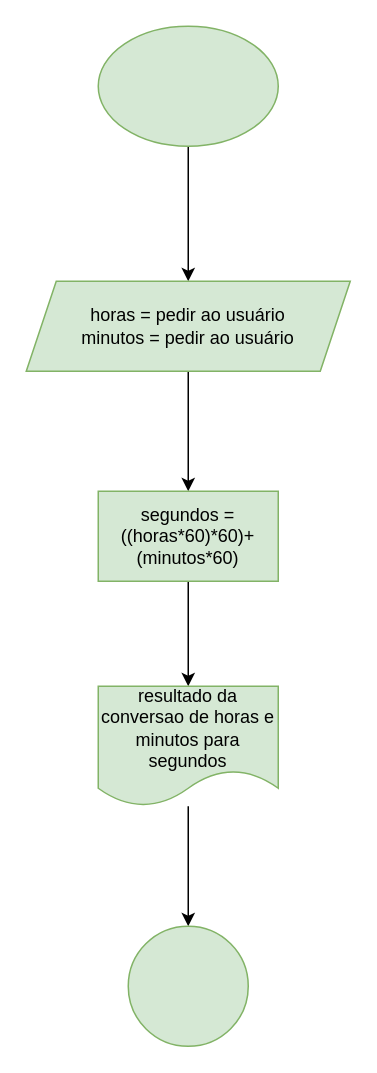
Image size: 377x1073. Some labels were removed from this diagram. The shapes that lost their labels are listed below. From the top down, each one's box as (x1, y1, x2, y2) in pixels, then its label:
(97, 25, 278, 146): inicio
(127, 925, 248, 1046): fim
